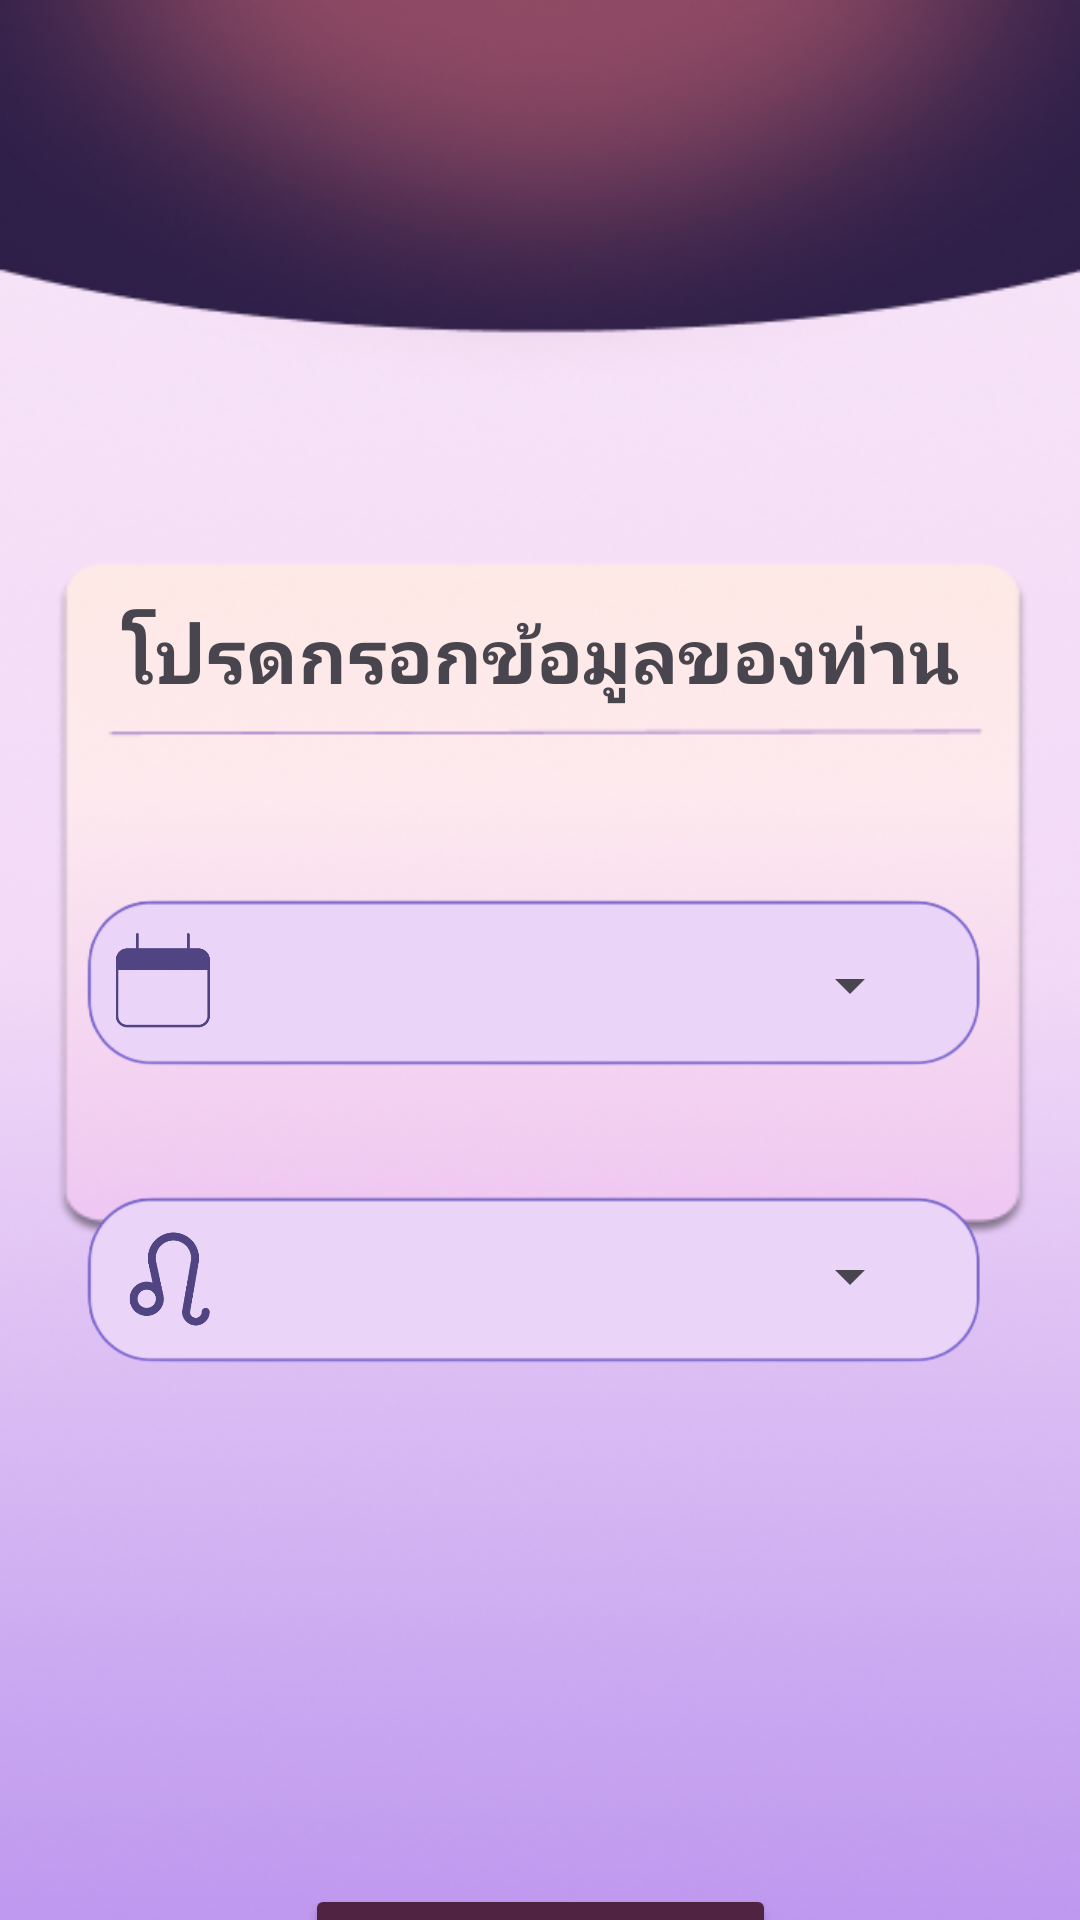

Named icons in this screenshot (1080 × 1920) and their centers, (x=x, y=y):
calendar: (x=163, y=980)
zodiac: (x=169, y=1279)
